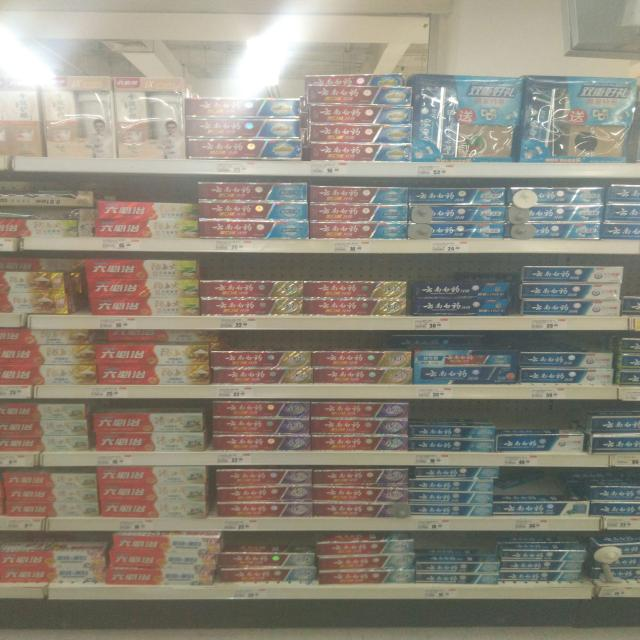unorganised: (107, 534, 223, 585), (1, 256, 89, 312), (499, 547, 586, 585), (223, 550, 315, 585), (1, 189, 97, 218), (103, 328, 221, 343), (304, 73, 409, 88), (412, 465, 498, 481)
